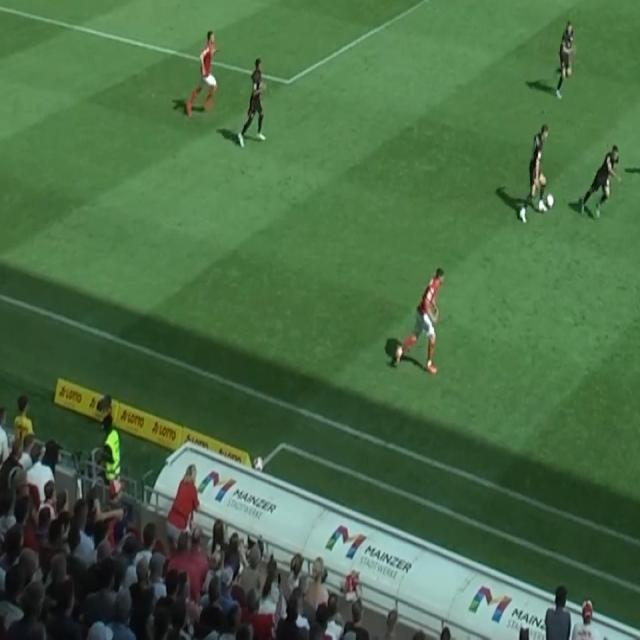ball: (546, 192, 554, 210)
